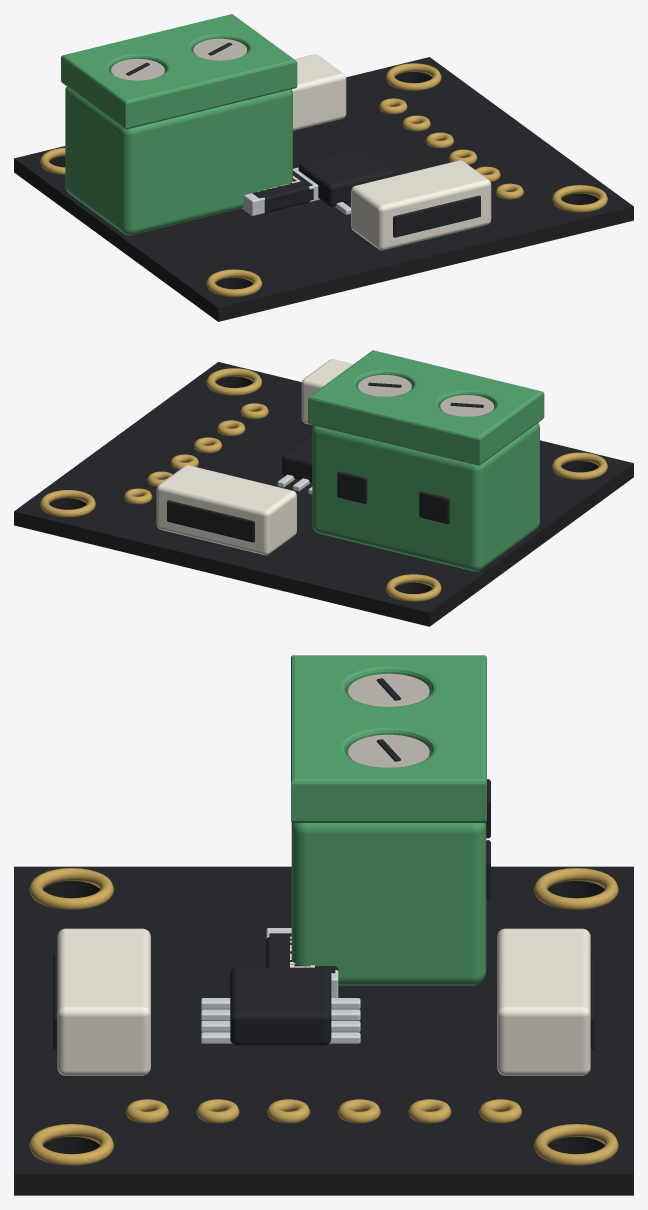
Rendered from components-32.glb.
The picture shows the model from 3 angles, top to bottom: view 1: azimuth 30°, elevation 25°; view 2: azimuth 150°, elevation 25°; view 3: azimuth 270°, elevation 25°; orthographic projection. The views are drawn at different scales.
Parts seen in each view (by area): view 1: board, terminal, front-socket, rear-socket, sense, pads, shunt; view 2: board, terminal, rear-socket, pads, sense, front-socket; view 3: board, terminal, front-socket, rear-socket, sense, pads, shunt.
Boxes of the visible parts, x1,y1,x2,y2 form: board: (14,57,633,321); terminal: (61,14,297,235); front-socket: (351,160,491,250); rear-socket: (292,54,346,130); sense: (298,148,394,214); pads: (379,98,523,199); shunt: (242,167,319,215); board: (14,362,633,626); terminal: (308,350,544,571); rear-socket: (156,465,296,555); pads: (124,403,268,504); sense: (277,434,312,494); front-socket: (301,359,353,425); board: (14,866,633,1195); terminal: (291,655,490,985); front-socket: (53,928,150,1075); rear-socket: (497,928,594,1075); sense: (201,967,360,1045); pads: (126,1099,521,1123); shunt: (266,928,338,997).
Bounding box in the file's own units: 2.03 × 0.713 × 1.72.
